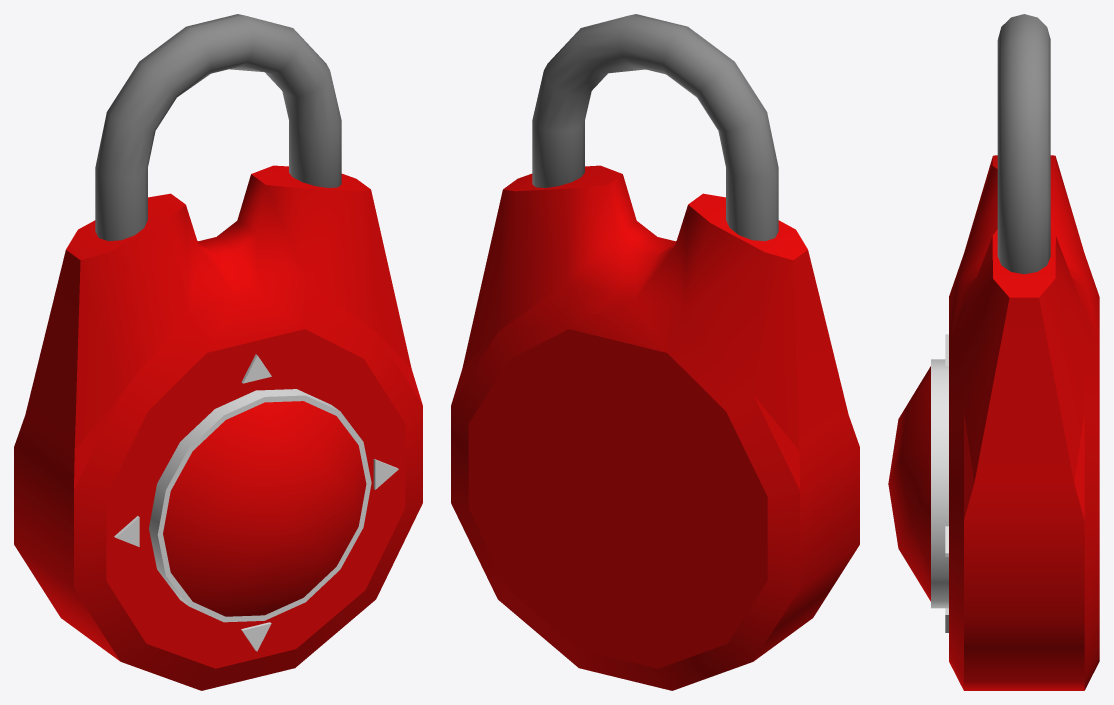
File: DirectionalLock.fbx
3 renders of one model, left to right at view 1: azimuth 30°, elevation 25°; view 2: azimuth 150°, elevation 25°; view 3: azimuth 270°, elevation 25°, orthographic.
Parts seen in each view (by area): view 1: LockBody, Slider, Shackle; view 2: LockBody, Shackle; view 3: LockBody, Shackle, Slider.
Part boxes in pixels (x1,y1,x2,y2): LockBody: [14, 165, 422, 690]; Slider: [149, 389, 371, 622]; Shackle: [95, 14, 341, 241]; LockBody: [451, 165, 859, 690]; Shackle: [532, 14, 778, 241]; LockBody: [945, 155, 1099, 690]; Shackle: [997, 14, 1050, 274]; Slider: [888, 359, 948, 608].
Size of the model in its own units: 13.47 by 23.45 by 7.01.
